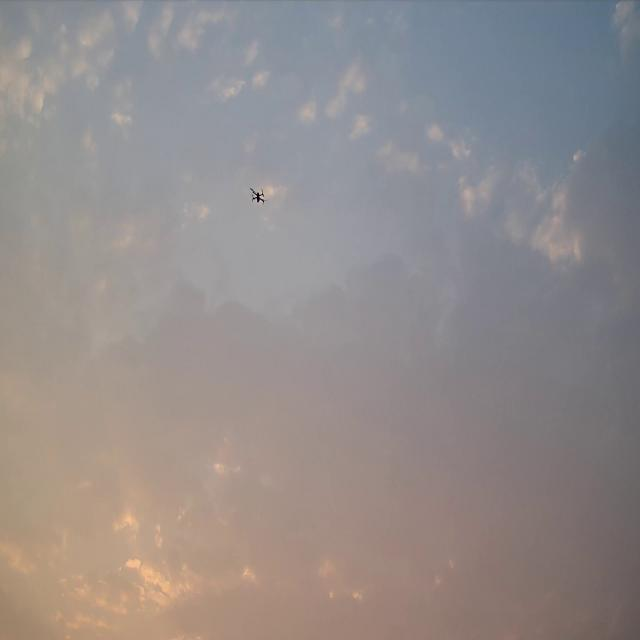UAV: (249, 187, 268, 204)
